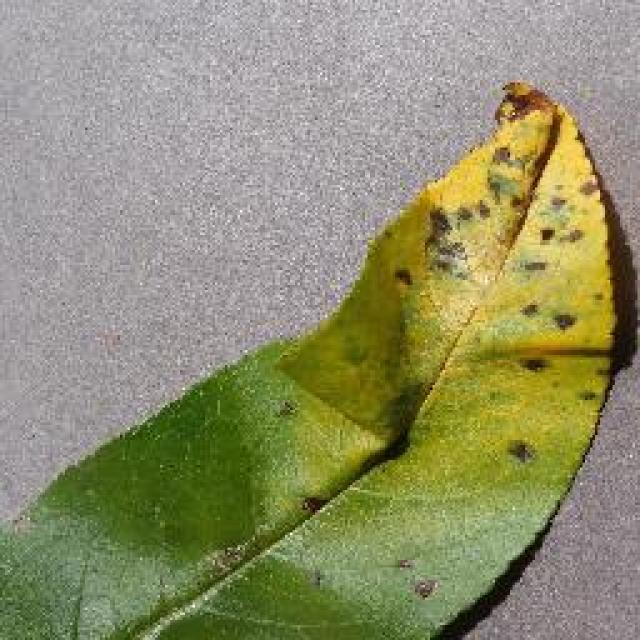Peach_Bacterial_Spot: (306, 163, 636, 427)
